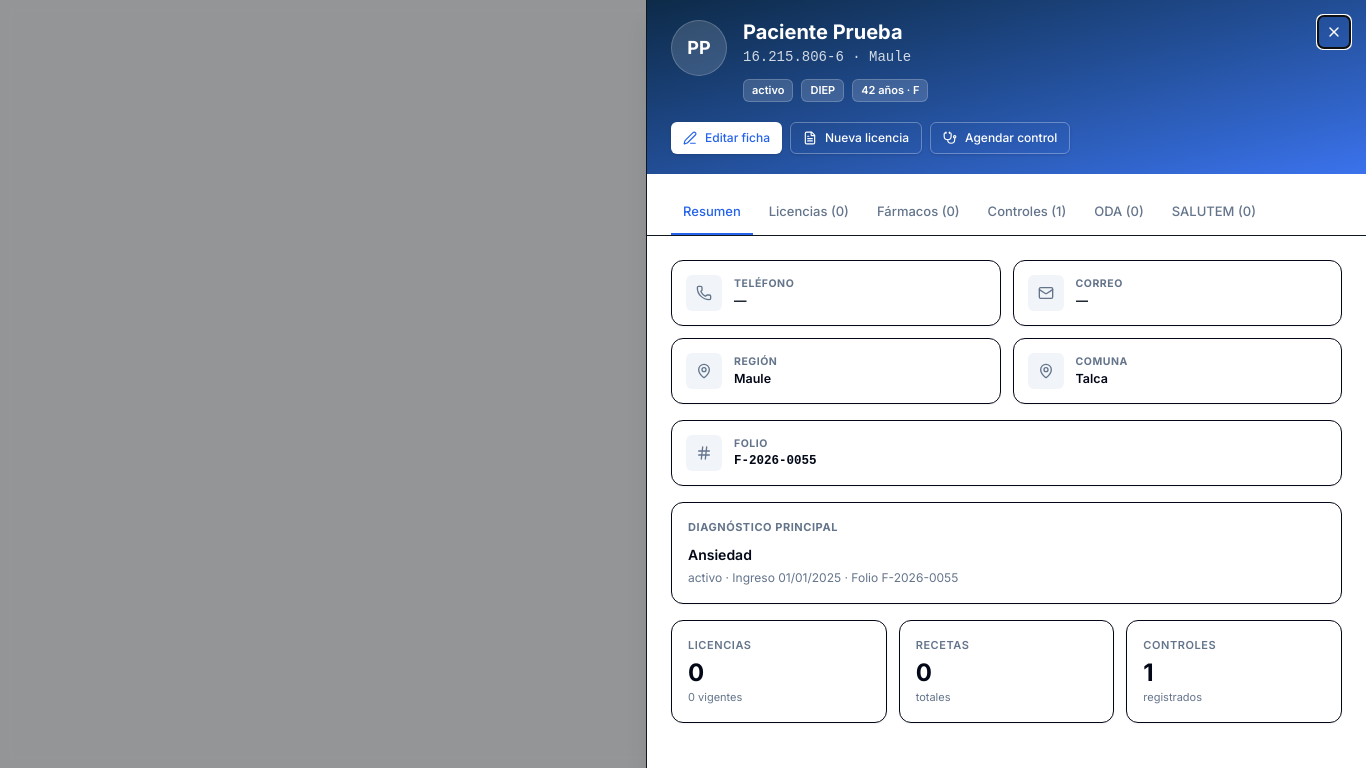
Scenario: PatientSheet — pestaña SALUTEM › la pestaña Controles marca los controles creados desde SALUTEM
Expected: the heading "Paciente Prueba" is shown, [743,20,902,44]
What coordinates should you click on to do the following:
click the tab "Controles (1)"
I would click on:
 (1027, 212)
Its box is [976,190,1078,235].
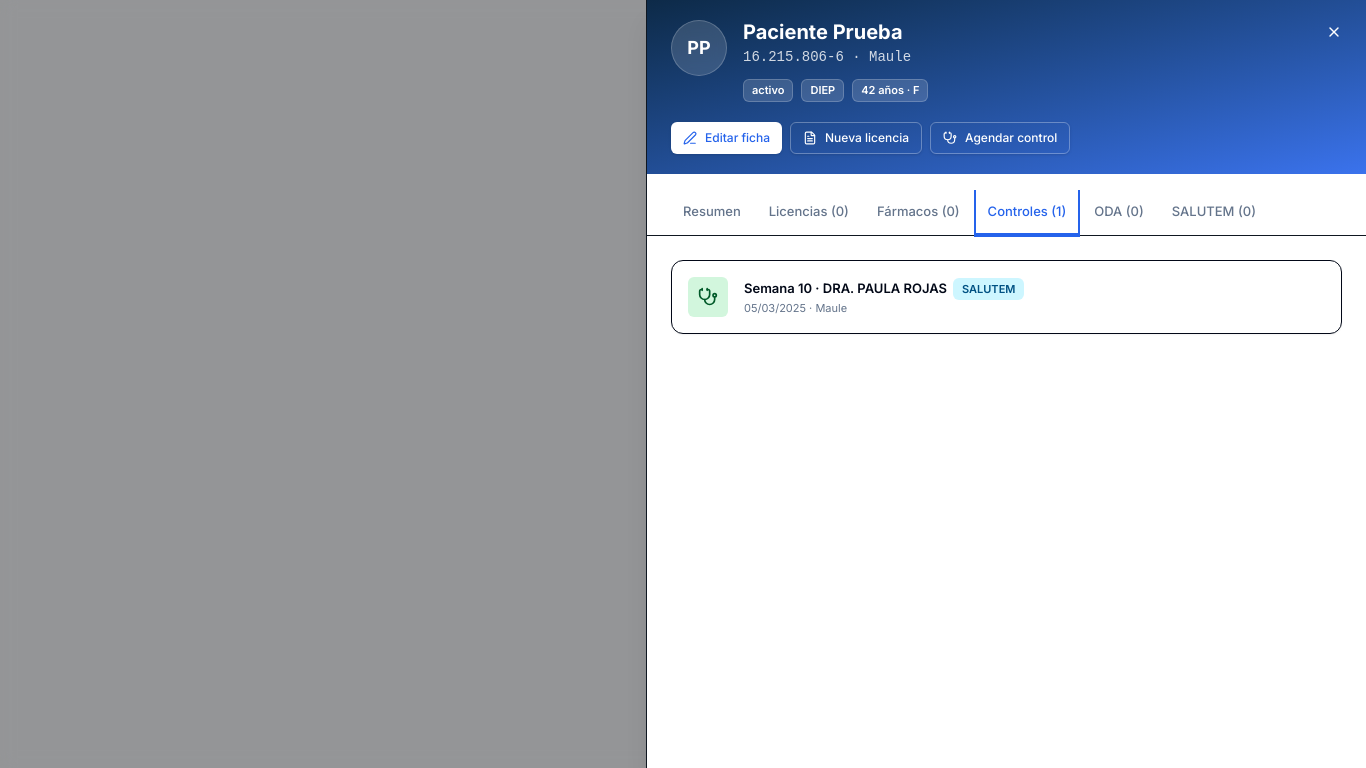
Now the text "SALUTEM" is shown, box [953,278,1024,300]
